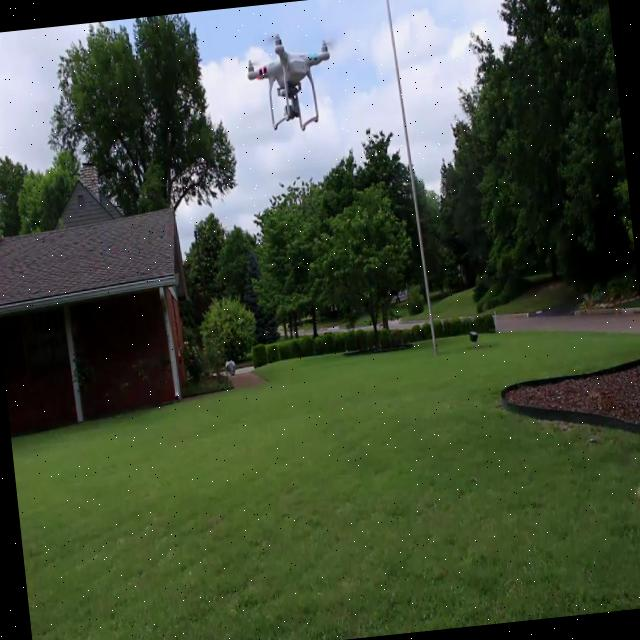drone: (240, 23, 340, 138)
